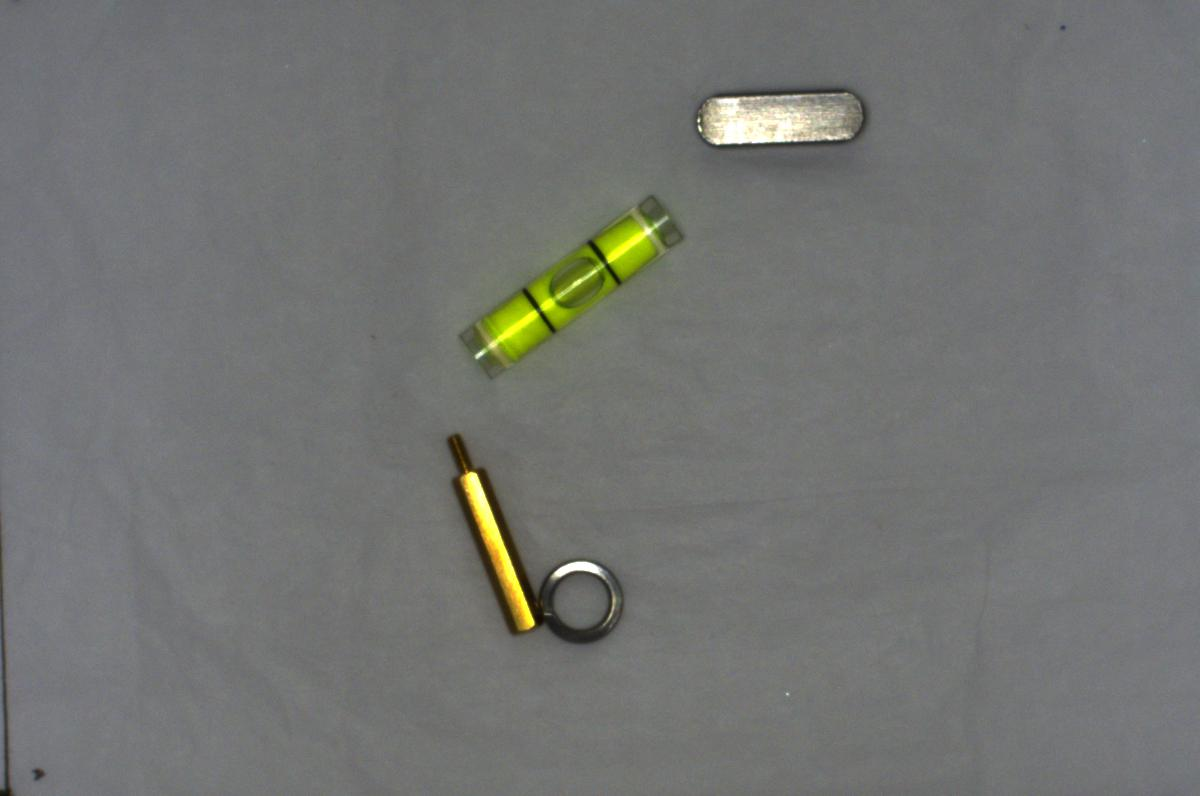Hexagon pillar: (441, 426, 544, 647)
Horizontal bubble: (444, 182, 688, 385)
Keybar: (684, 82, 872, 159)
Spring washer: (533, 558, 633, 648)
